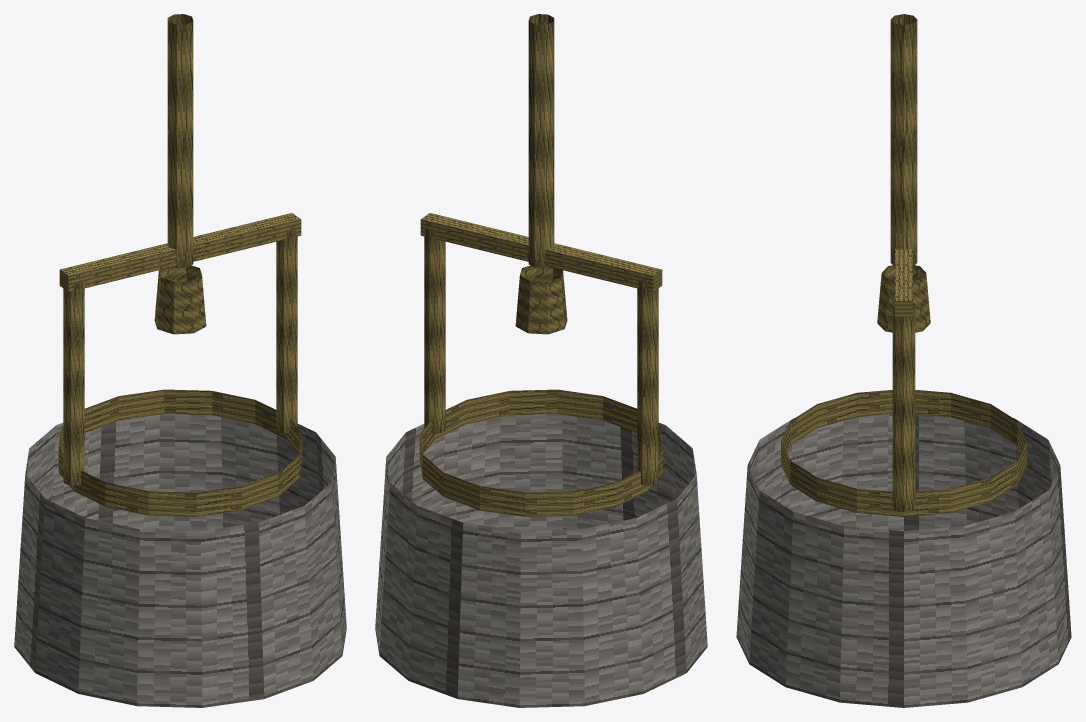
File: well.glb
The picture shows the model from 3 angles, left to right: view 1: azimuth 30°, elevation 25°; view 2: azimuth 150°, elevation 25°; view 3: azimuth 270°, elevation 25°; orthographic projection.
Parts seen in each view (by area): view 1: well; view 2: well; view 3: well.
Boxes of the visible parts, left/top/right/bottom form: well: left=14, top=14, right=346, bottom=707; well: left=375, top=14, right=707, bottom=707; well: left=736, top=14, right=1071, bottom=707.
Size of the model in its own units: 1.5 by 3.05 by 1.5.
Materials: 2 (2 with a texture image).
